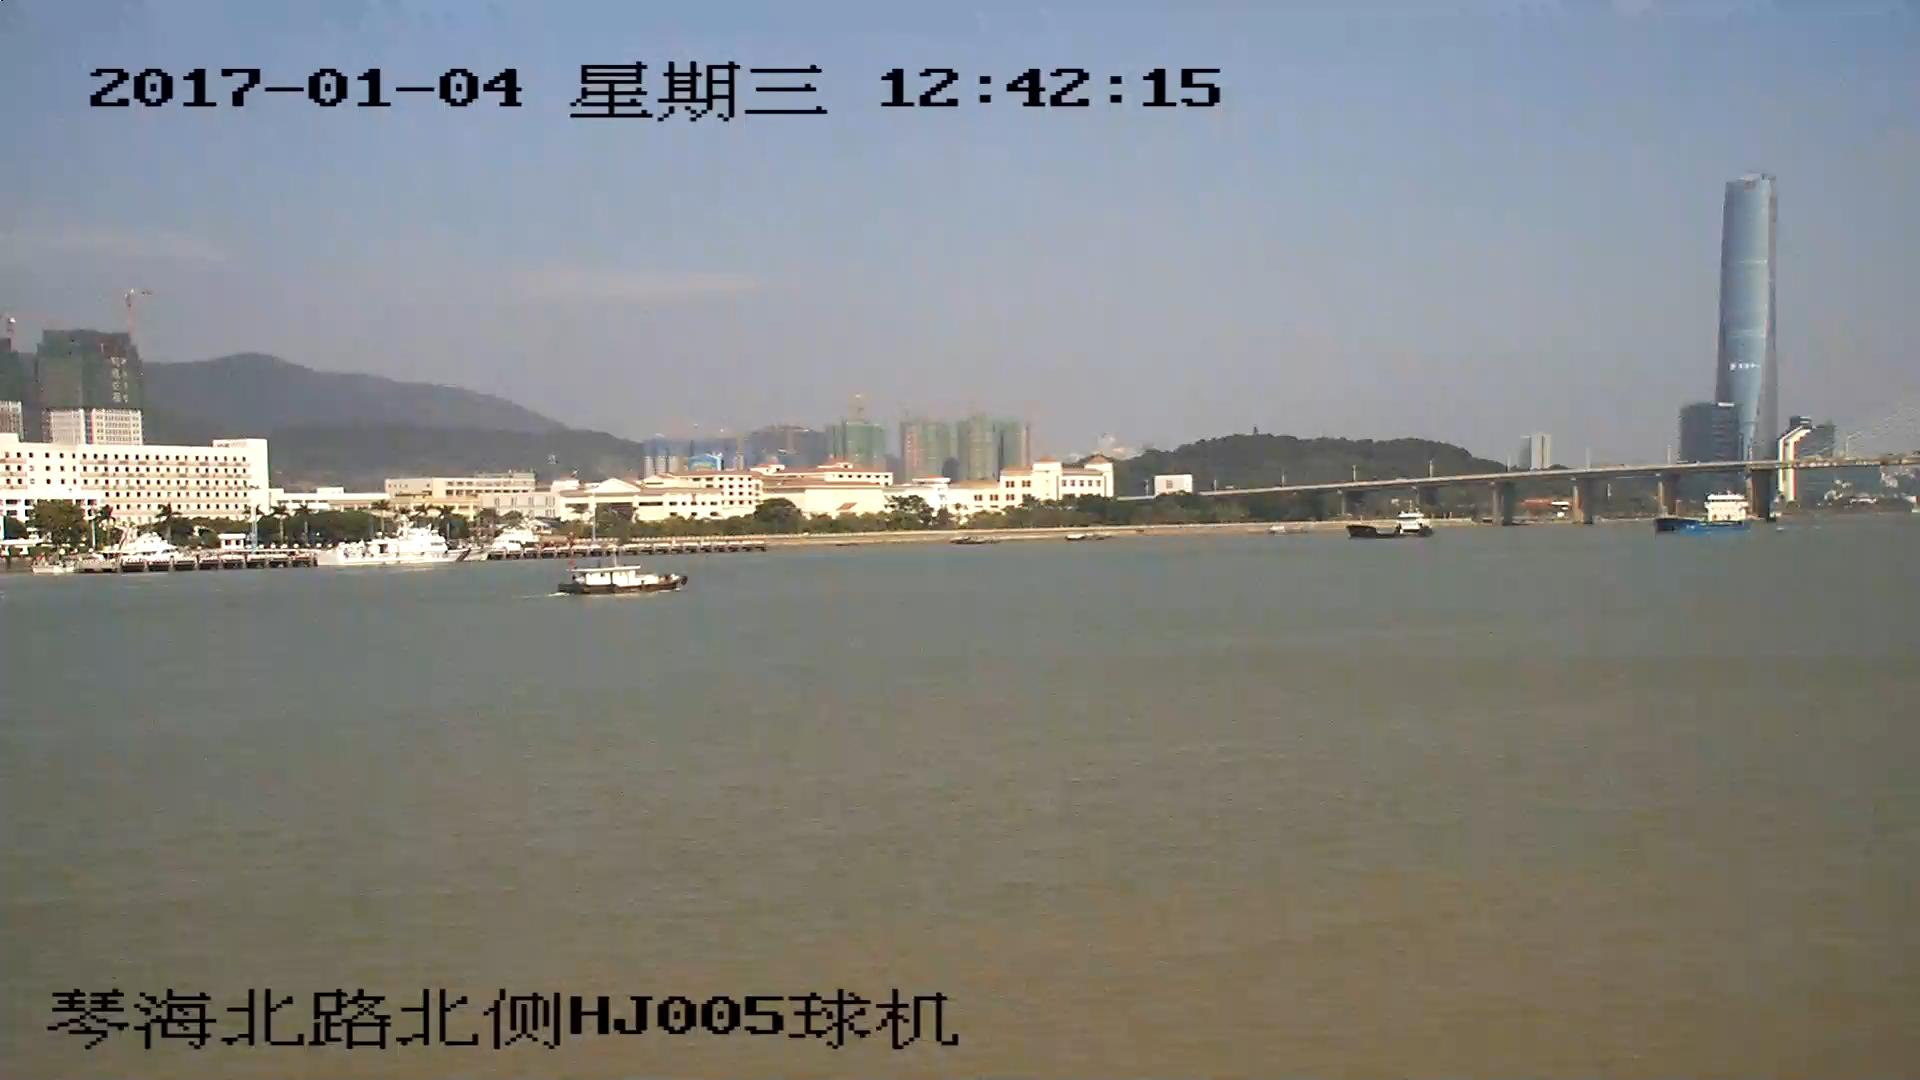fishing boat: (555, 564, 688, 595)
general cargo ship: (1655, 494, 1757, 537), (1350, 511, 1434, 540)
